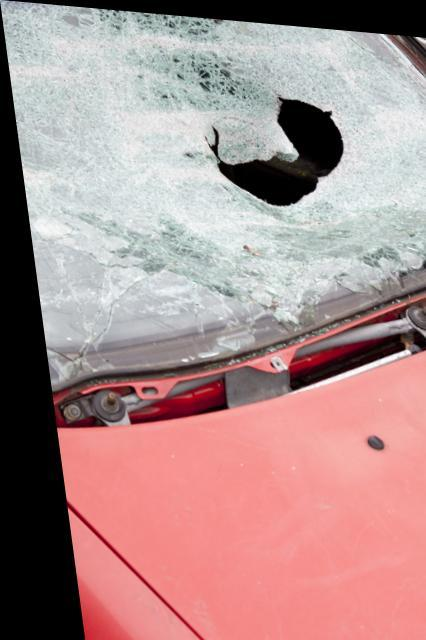glass shatter: (0, 0, 426, 388)
